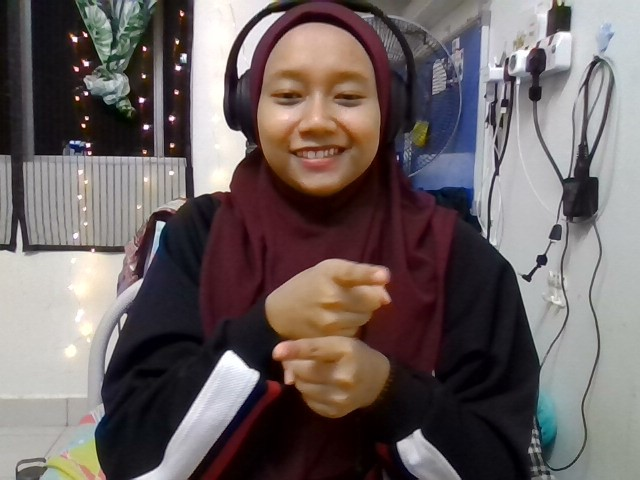Betul: (271, 258, 391, 417)
